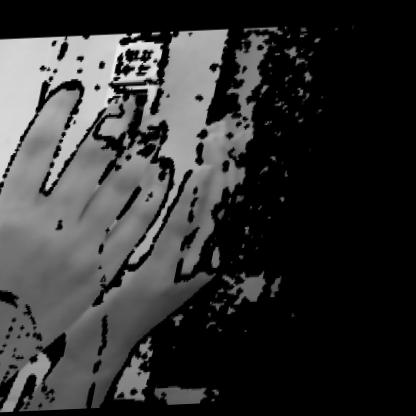dua: (0, 48, 269, 415)
